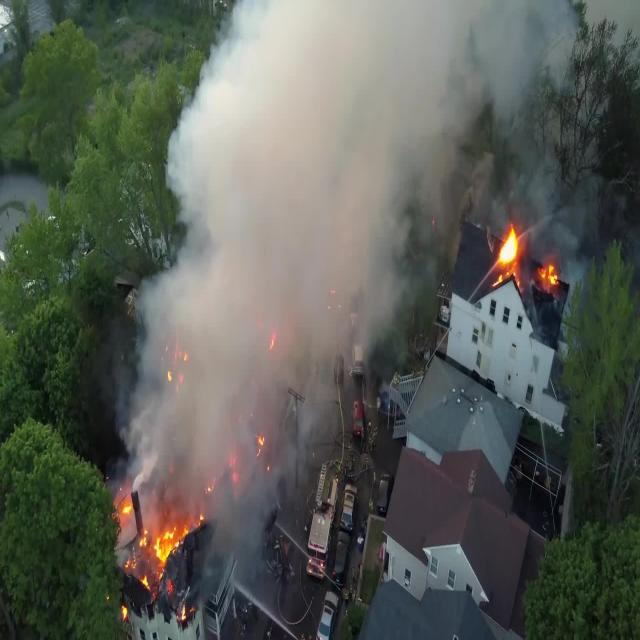smoke: (225, 5, 554, 191), (185, 206, 356, 423)
